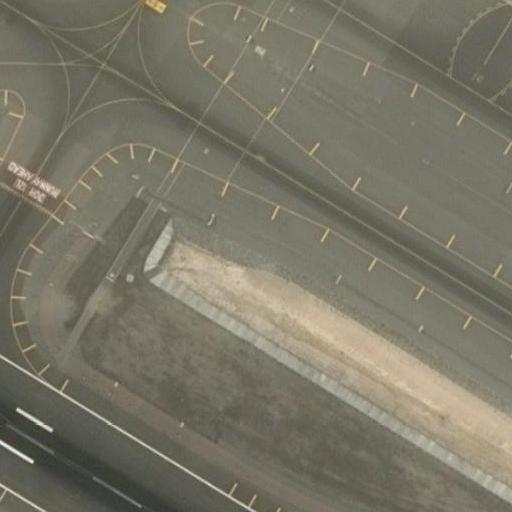Aircraft: (471, 0, 512, 30)
